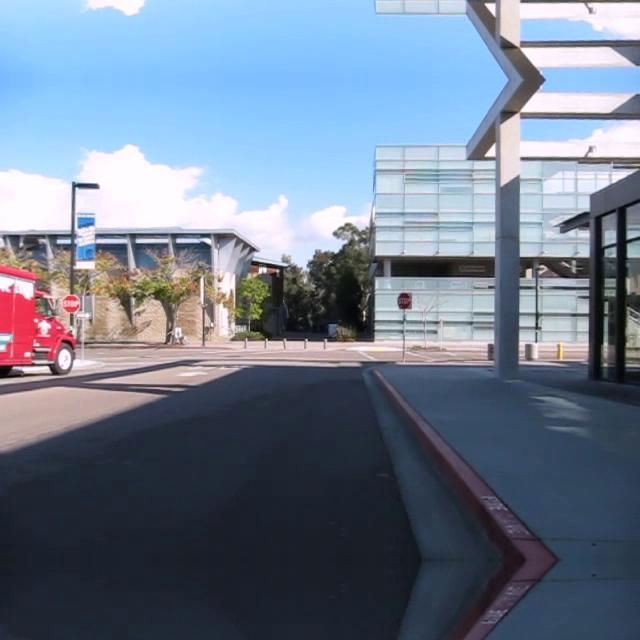stop: (62, 294, 80, 312), (397, 290, 411, 310)
